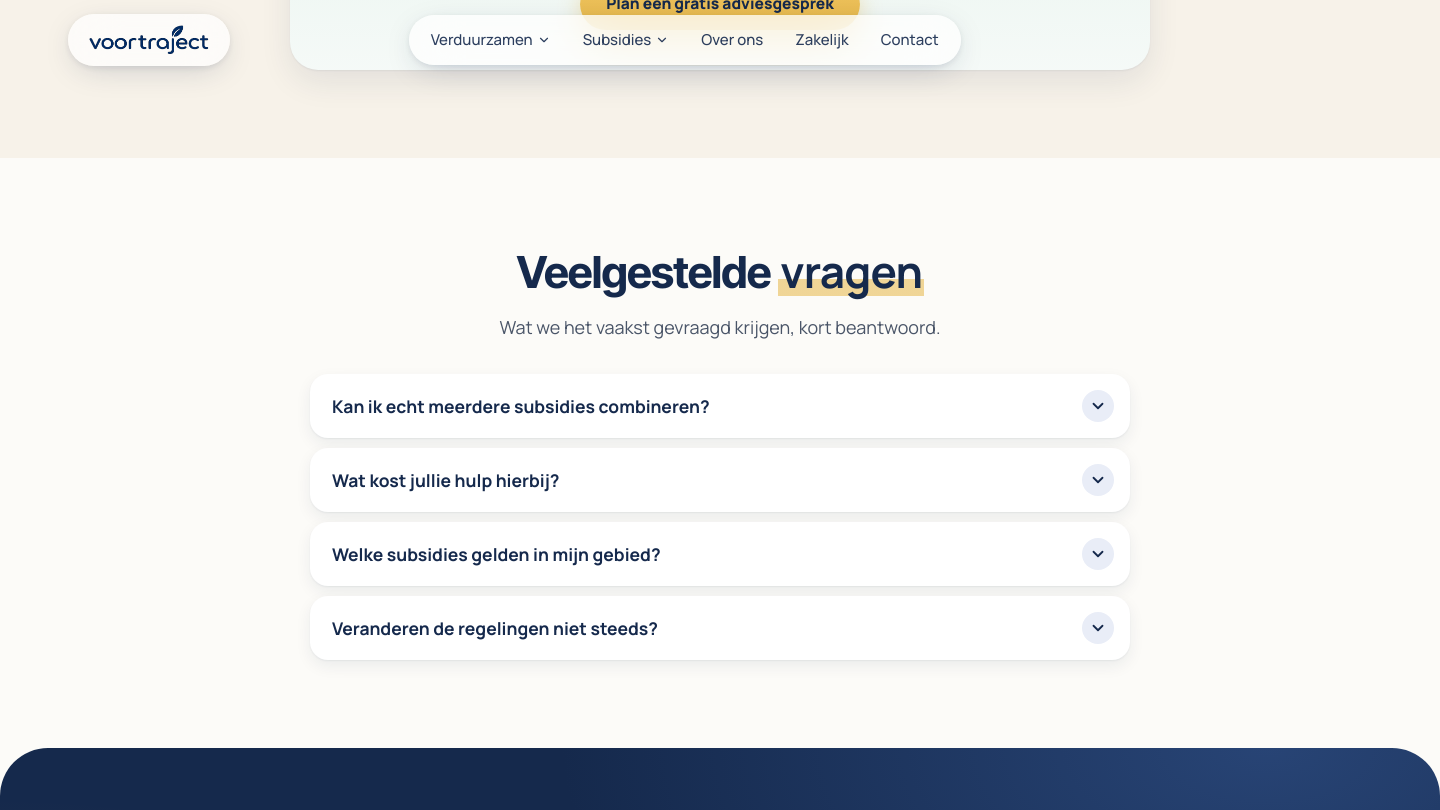
it: /subsidies/stapelen › opent één vraag tegelijk in de FAQ
(page scrolled)
Click the button "Kan ik echt meerdere subsidies combineren?".
click(521, 406)  # box [310,374,1130,438]
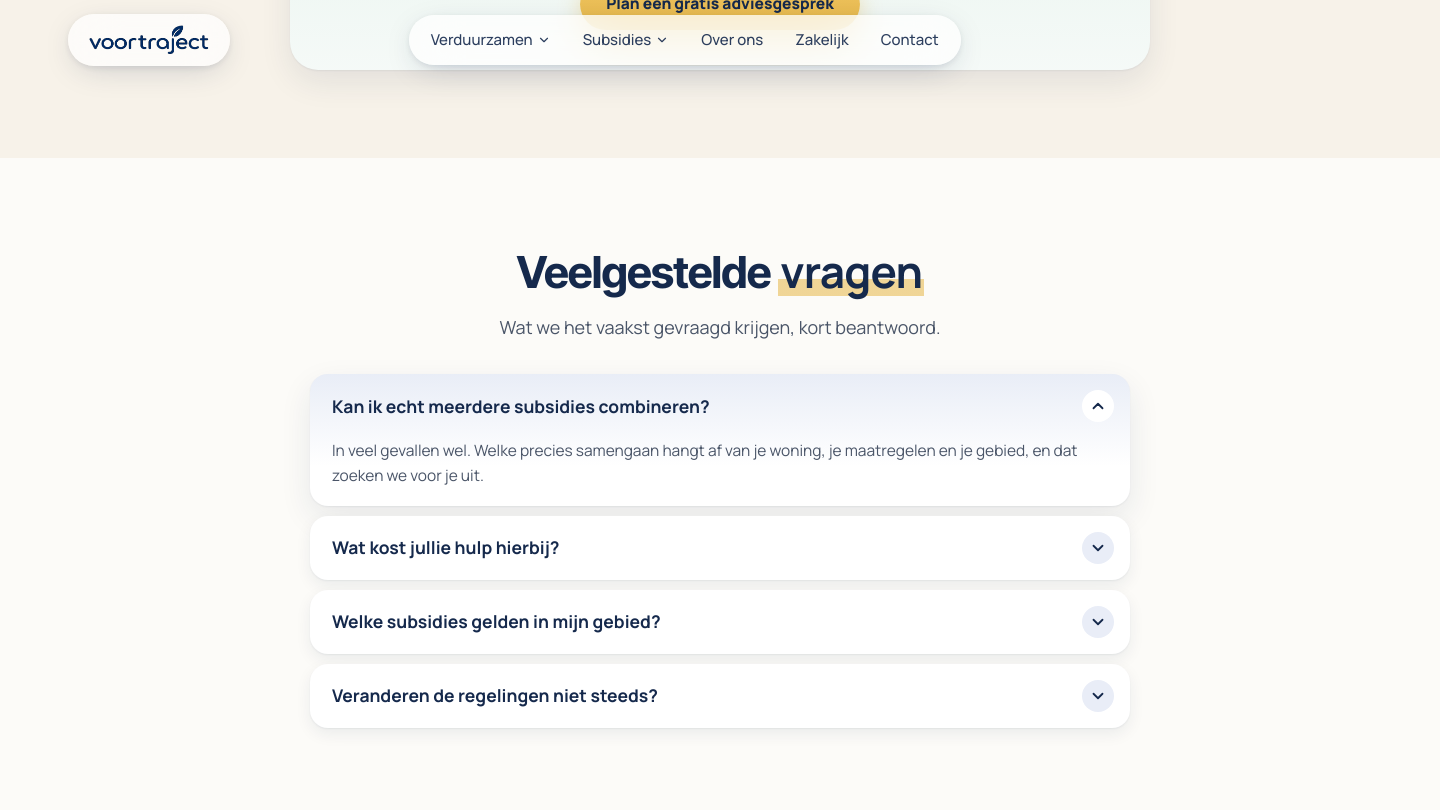
Check: the button "Kan ik echt meerdere subsidies combineren?" is expanded, box [310,374,1130,438]
Click the button "Wat kost jullie hulp hierbij?".
click(446, 547)  # box [310,516,1130,580]
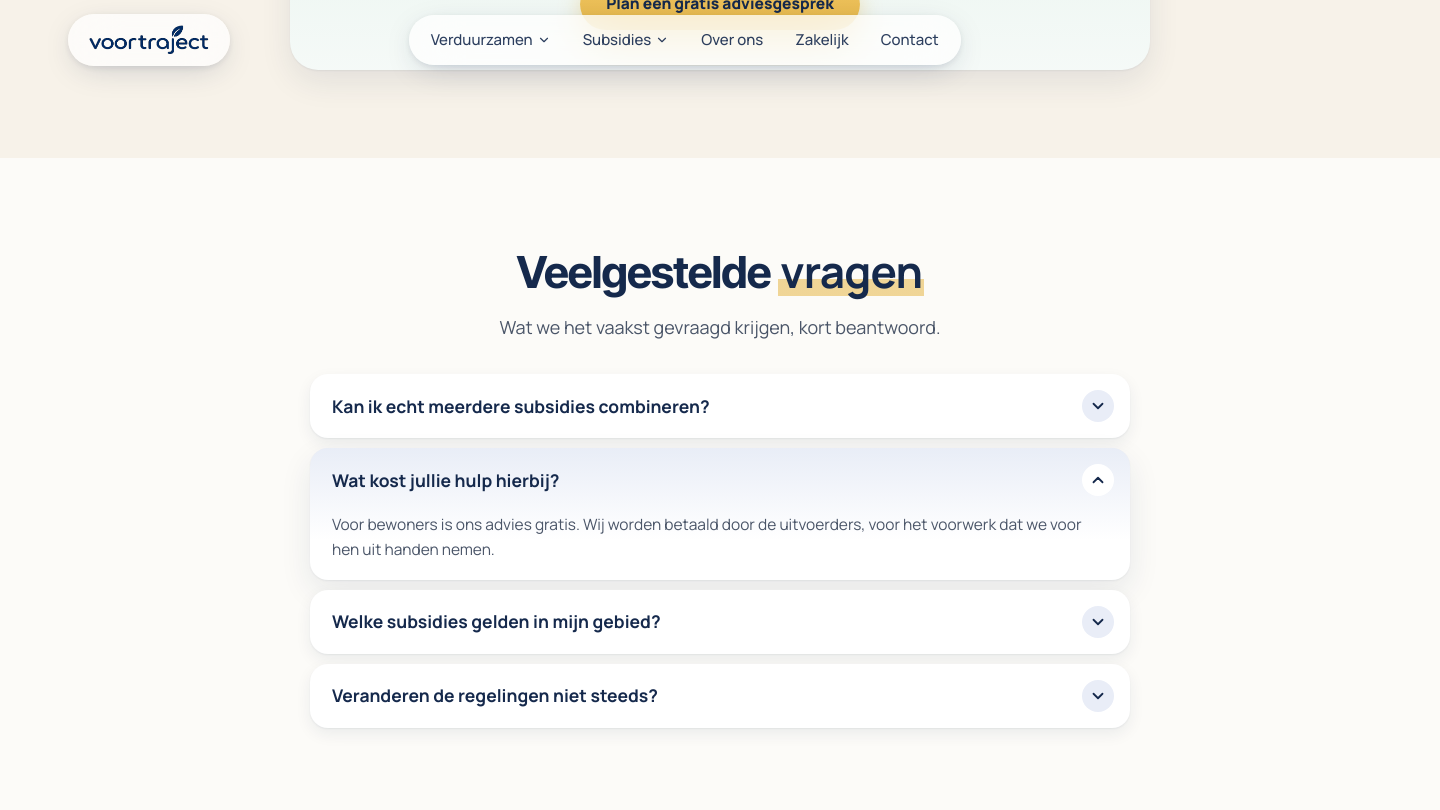
Check: the button "Kan ik echt meerdere subsidies combineren?" is collapsed, box [310,374,1130,438]
Check: the button "Wat kost jullie hulp hierbij?" is expanded
Click the button "Wat kost jullie hulp hierbij?".
click(446, 480)  # box [310,448,1130,512]
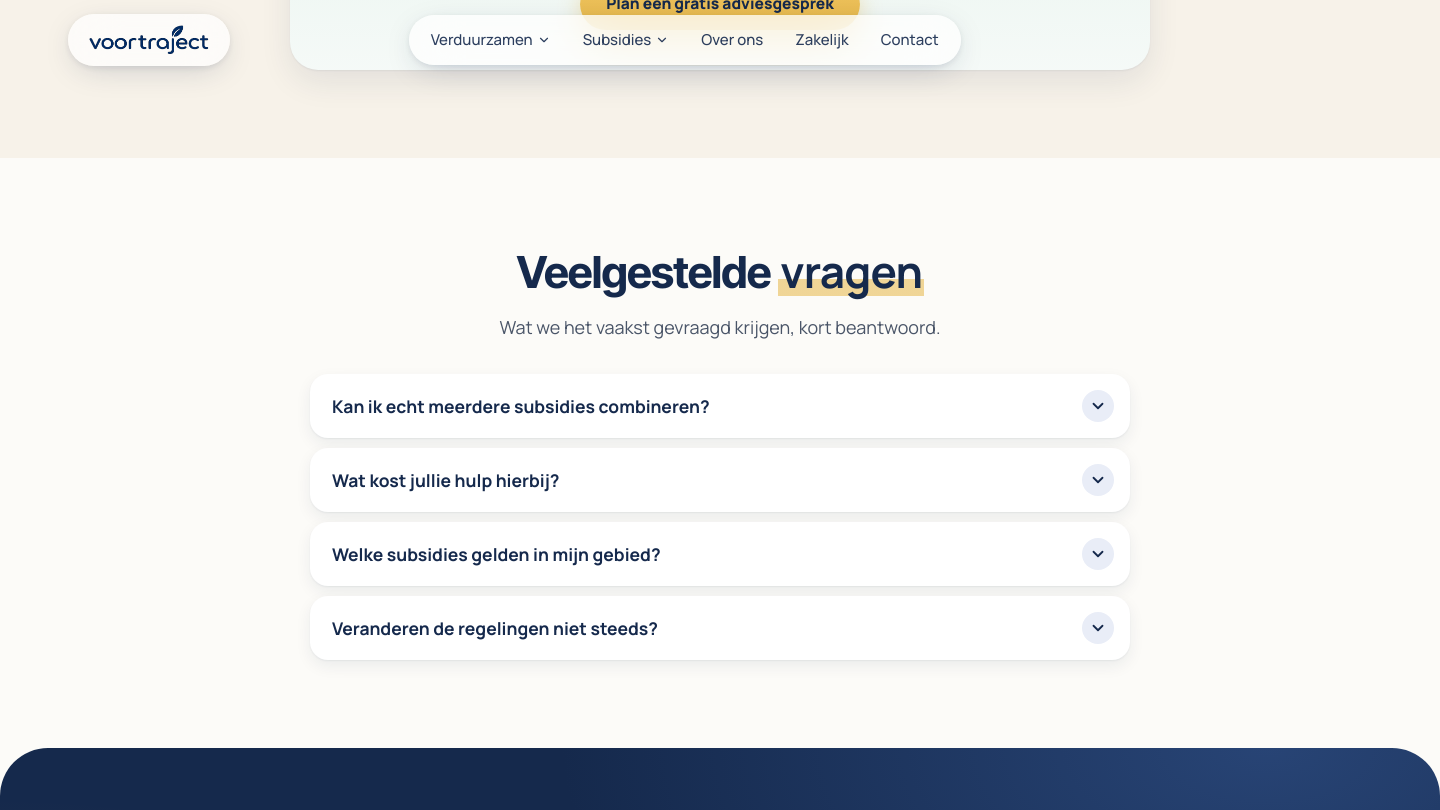
Check: the button "Wat kost jullie hulp hierbij?" is collapsed, box [310,448,1130,512]
